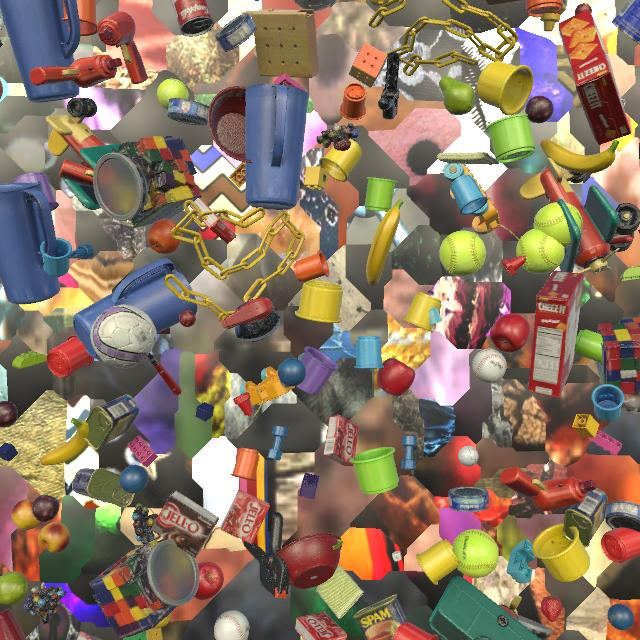ycb_002_master_chef_can: (611, 0, 640, 45)
ycb_003_cracker_box: (558, 9, 631, 145), (528, 271, 584, 398)
ycb_005_tomato_soup_can: (171, 0, 214, 37)
ycb_006_mustard_bottle: (540, 0, 568, 32)
ycb_007_tuna_fish_can: (215, 13, 257, 52), (167, 98, 209, 126), (605, 500, 640, 532), (448, 486, 490, 512)
ycb_008_pudding_box: (151, 490, 219, 558)
ycb_009_gelatin_box: (221, 490, 270, 545), (189, 198, 236, 244), (323, 414, 359, 466), (295, 611, 347, 640), (77, 631, 102, 640)
ycb_010_potted_meat_can: (84, 394, 139, 450), (563, 488, 608, 548), (353, 594, 408, 640), (72, 468, 135, 507)
ycb_011_banana: (366, 199, 403, 287), (540, 139, 619, 174), (40, 418, 89, 465)
ycb_012_strawberry: (541, 596, 562, 622)
ycb_013_apple: (490, 313, 530, 352), (377, 358, 415, 397), (194, 562, 224, 600)
ycb_014_lemon: (153, 613, 171, 629), (369, 0, 389, 7)
ycb_015_peach: (38, 522, 70, 553), (11, 499, 40, 530)
ycb_016_pear: (439, 76, 475, 115), (0, 571, 28, 605)
ycb_017_orange: (147, 219, 182, 254), (0, 80, 3, 99)
ycb_018_plum: (525, 96, 554, 123), (32, 495, 59, 522), (0, 401, 18, 428)
